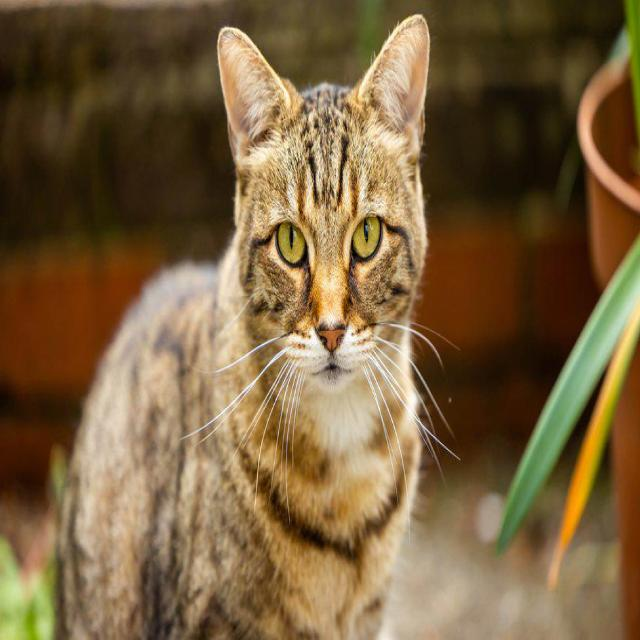Cat: (212, 8, 446, 405)
